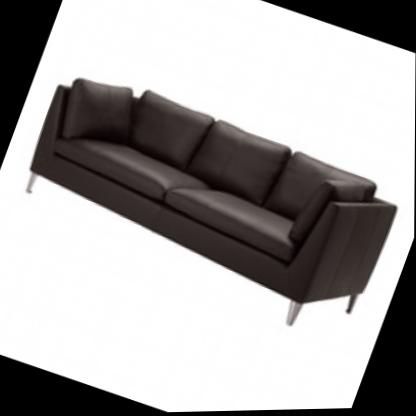Sofa: (0, 9, 416, 357)
